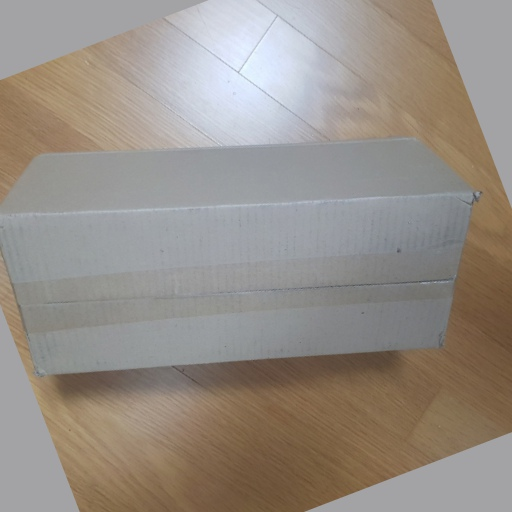Paper_0: (2, 137, 481, 376)
